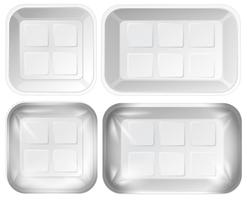Foam Box: (3, 3, 98, 95)
